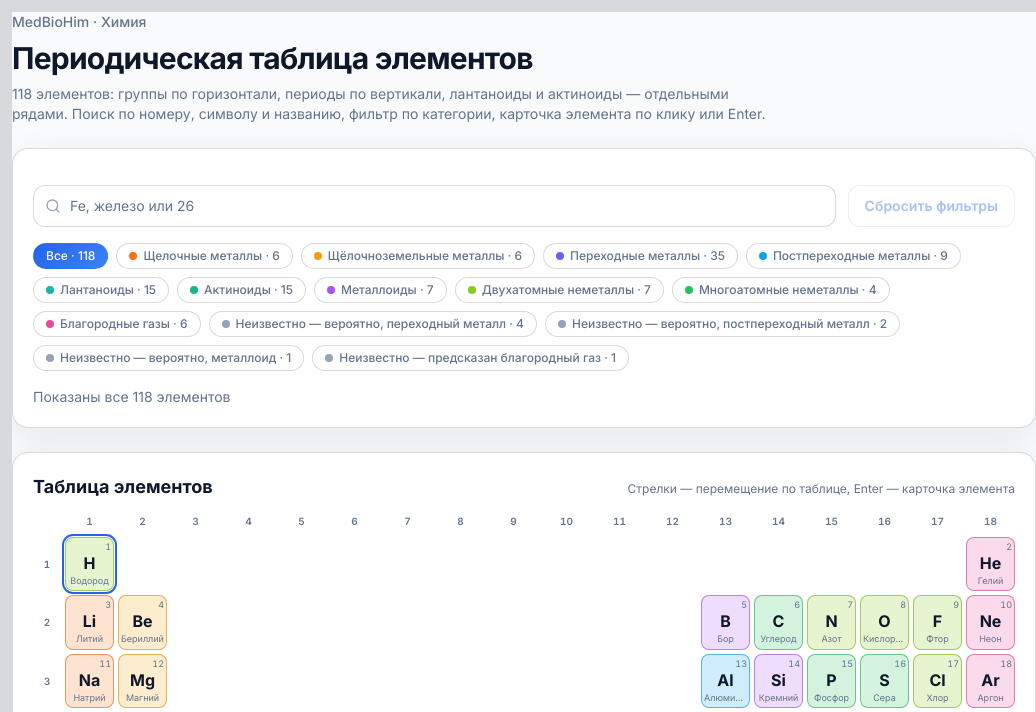
Test: клавиатура: одна точка Tab, стрелки перемещают фокус, фильтр по категории работает
The width and height of the screenshot is (1036, 712).
Press ArrowRight in the button with aria-label "Водород, H, атомный номер 1", box left=65, top=537, right=114, bottom=591
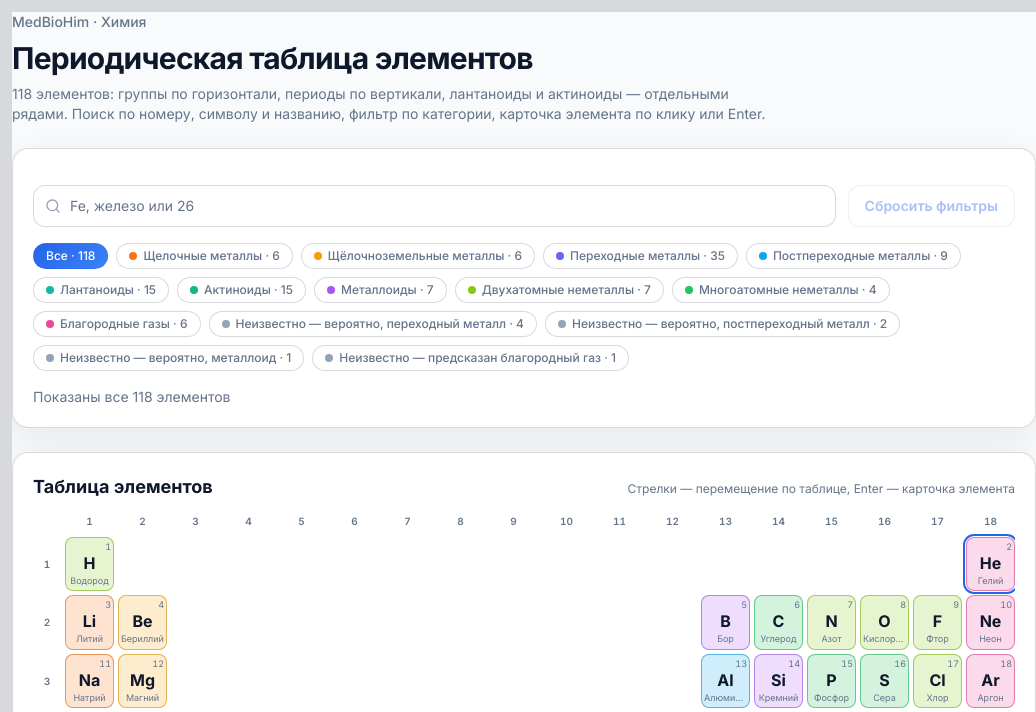
Click the button "Переходные металлы · 35" at [640, 256], box left=543, top=243, right=738, bottom=269
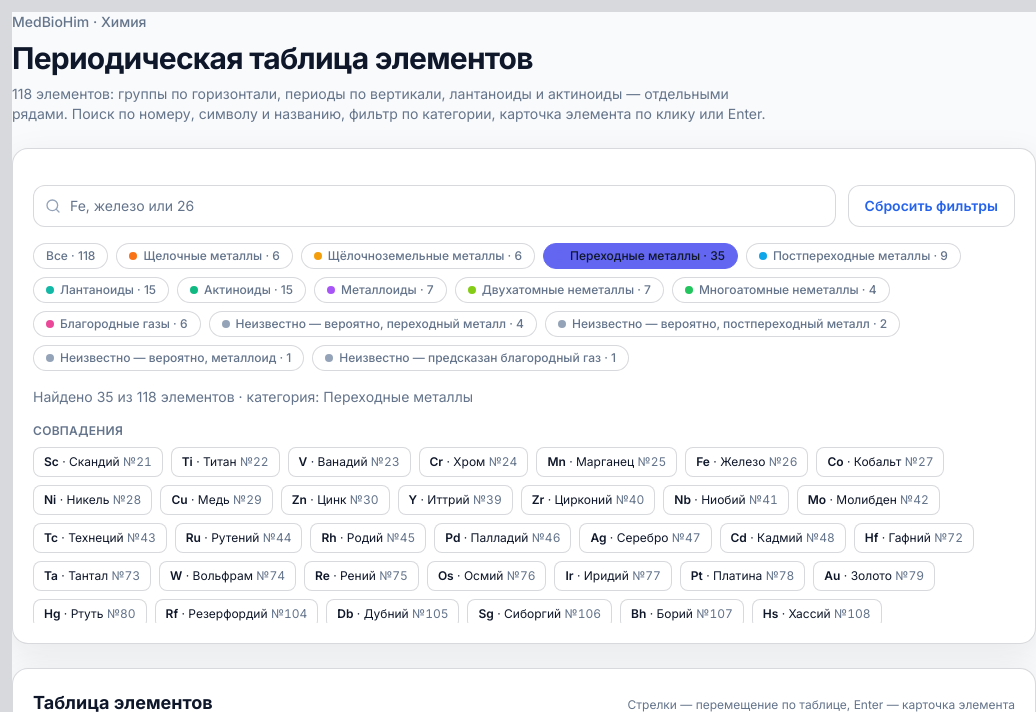
expect the text "Найдено 35 из 118 элементов · категория: Переходные металлы" is shown: met, box left=33, top=388, right=473, bottom=405
